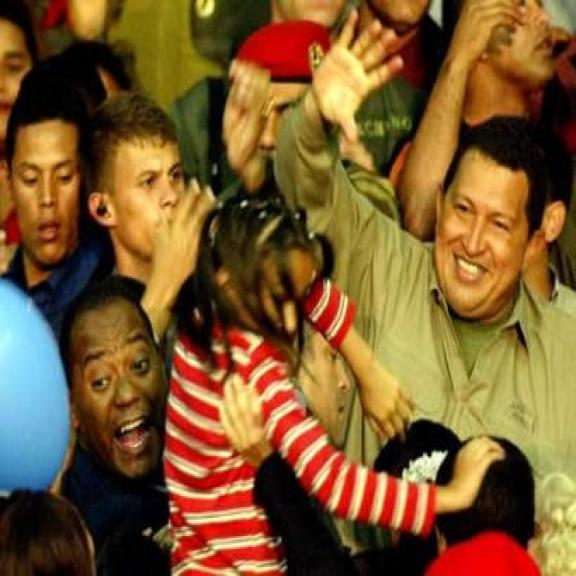face: (434, 152, 547, 319), (69, 313, 169, 482), (88, 133, 201, 263), (220, 237, 317, 360), (11, 119, 89, 271), (297, 326, 359, 450), (483, 0, 558, 100), (0, 16, 40, 140)
